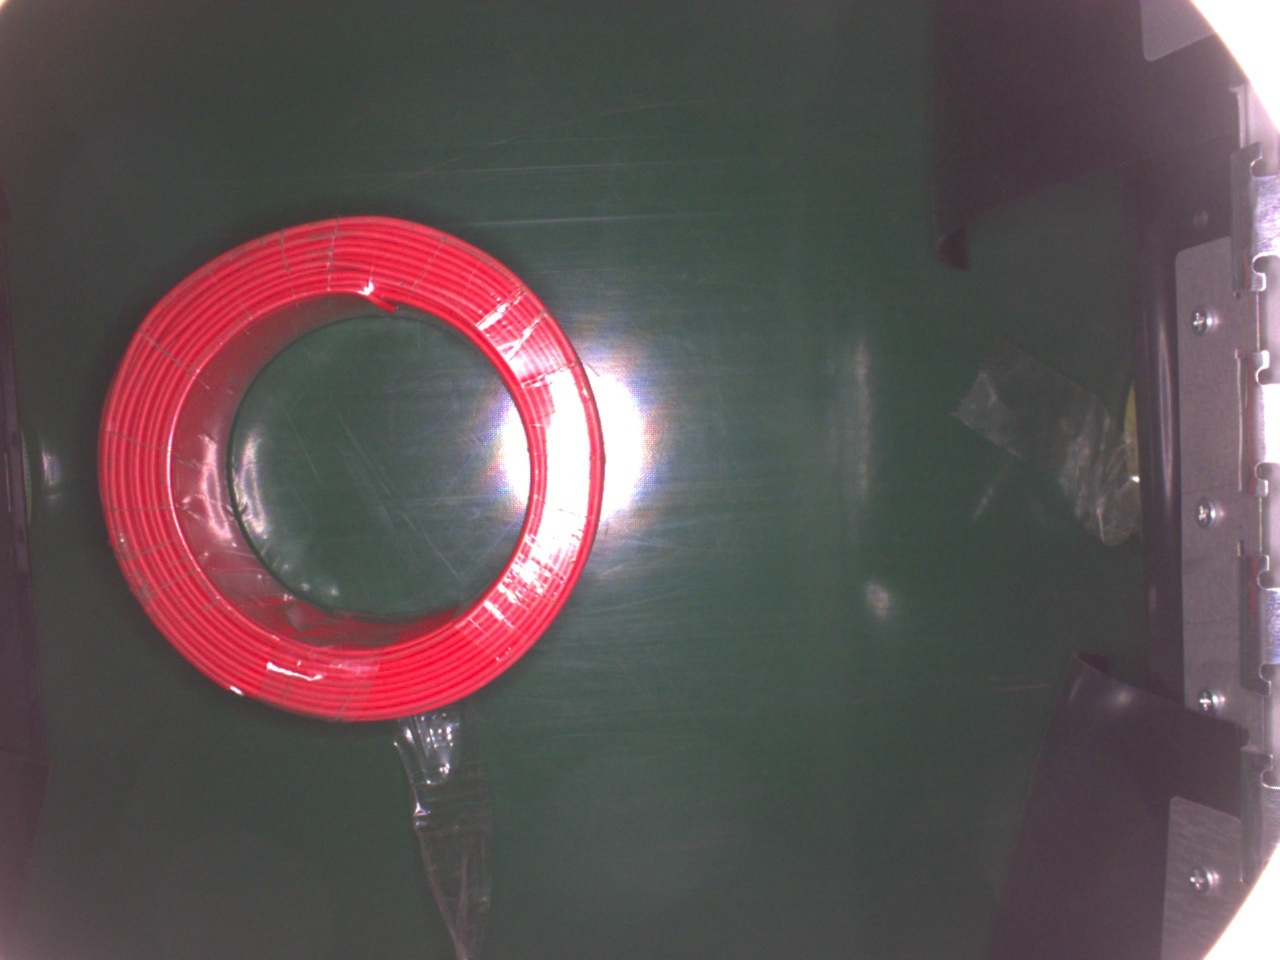red: (101, 207, 605, 719)
